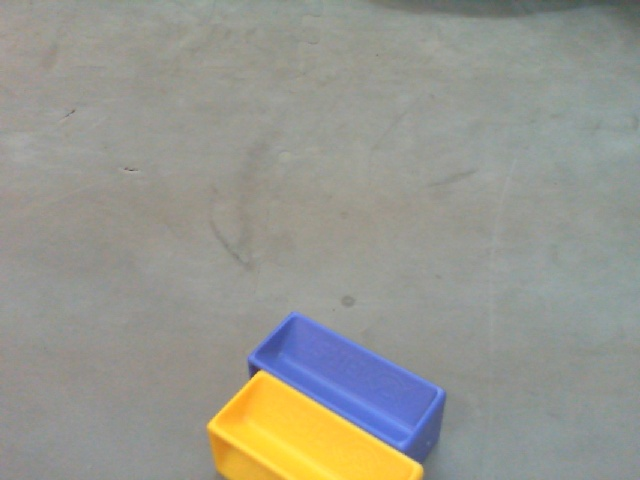BlueSample: (246, 306, 468, 463)
YellowSample: (191, 366, 429, 480)
